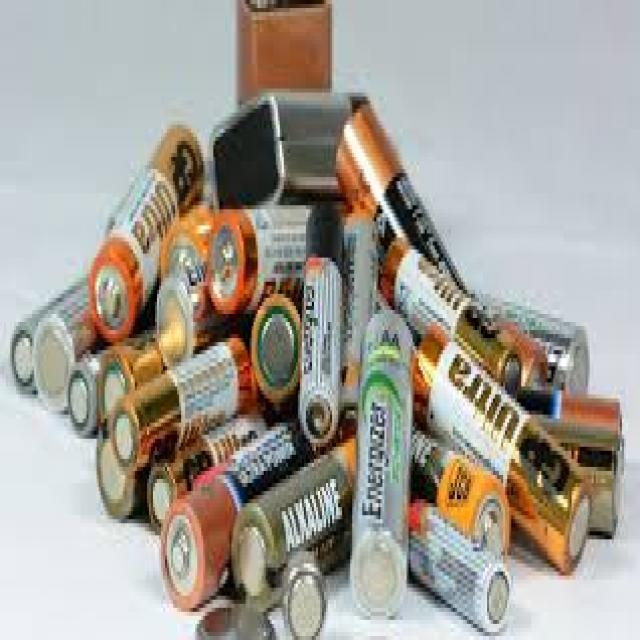non-organic waste: (413, 319, 591, 580), (158, 408, 312, 615), (92, 115, 206, 352), (335, 96, 466, 300), (231, 438, 360, 614), (212, 89, 372, 214), (354, 309, 412, 626), (408, 421, 515, 560), (404, 501, 510, 634), (300, 198, 344, 447), (342, 204, 379, 434)
